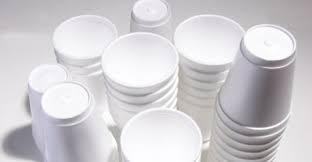Plastic cup: (0, 1, 312, 162)
